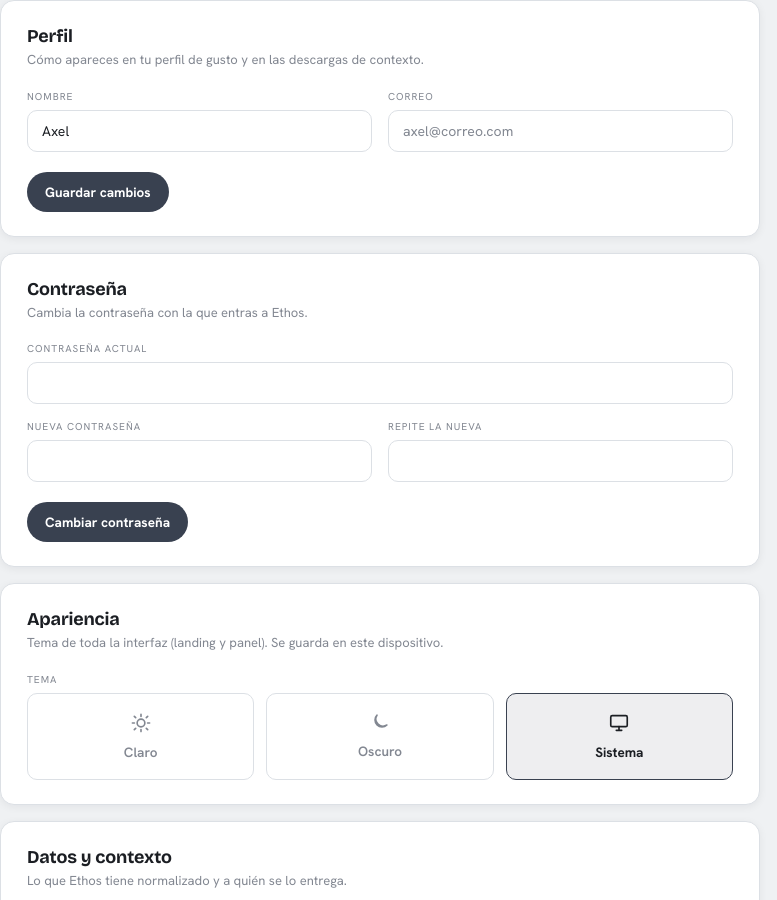
Test: Settings › avisa si la contraseña actual es incorrecta
Type "mala" into the password field named "Contraseña actual" at (380, 383), box [27,362,733,404]
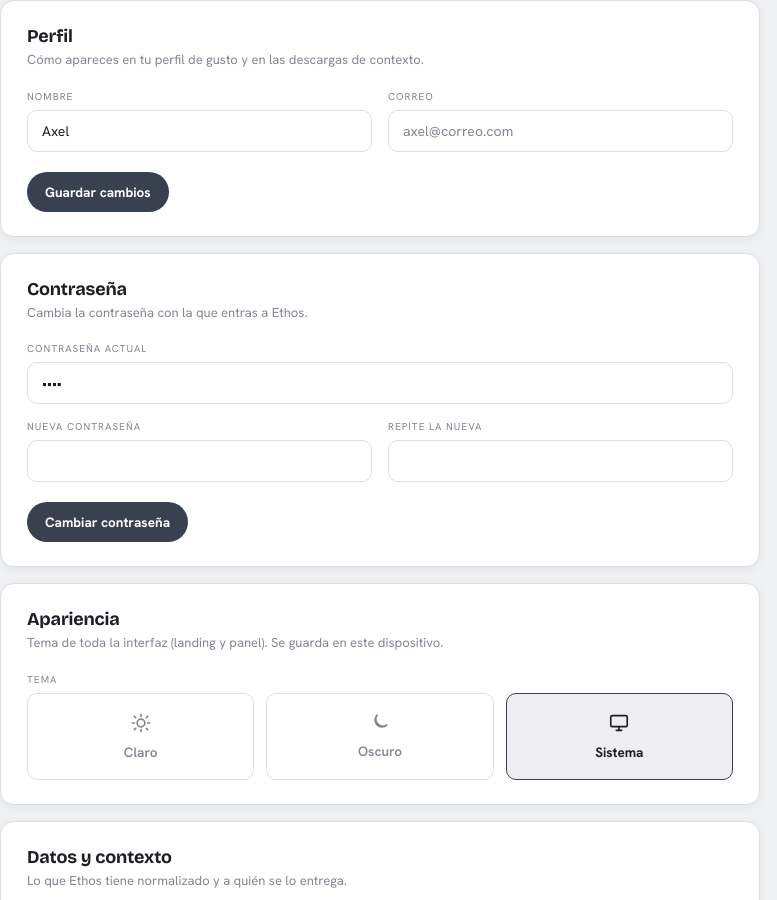
Type "clave-nueva-123" into the password field named "Nueva contraseña" at (200, 461), box [27,440,372,482]
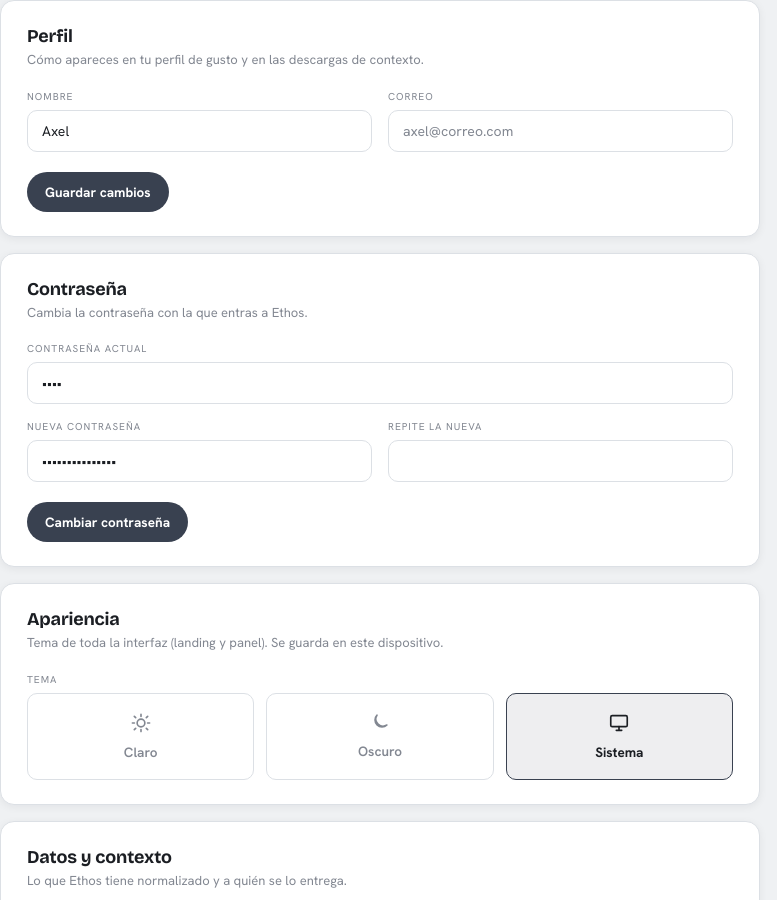
Type "clave-nueva-123" into the password field named "Repite la nueva contraseña" at (560, 461), box [388,440,733,482]
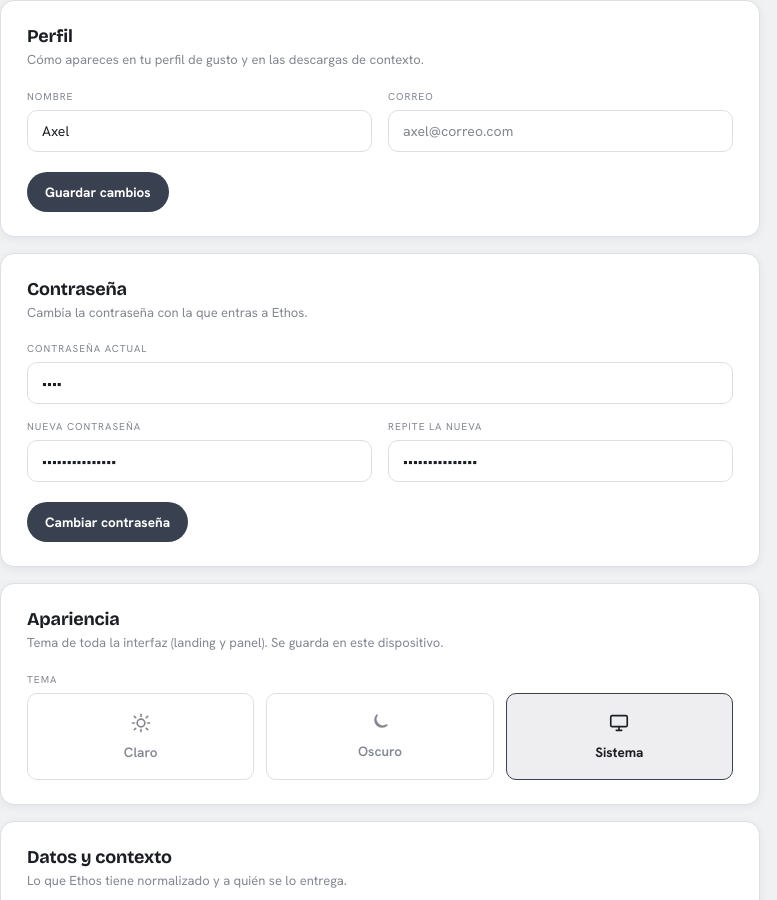
Click the button "Cambiar contraseña" at (108, 522), box [27,502,188,542]
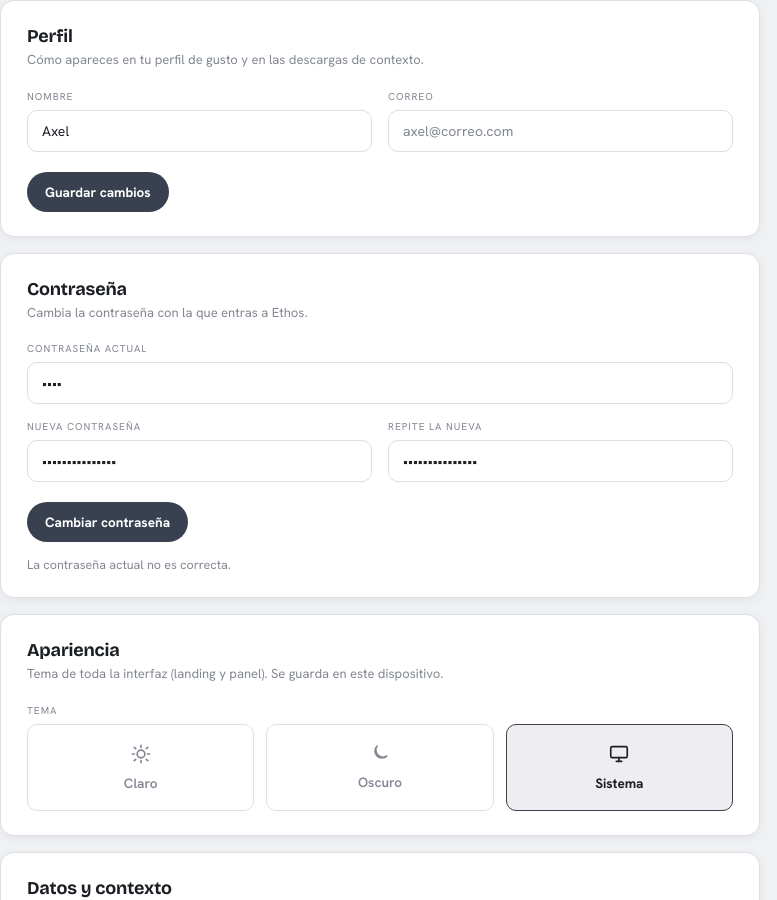
Result: the text "La contraseña actual no es correcta." is shown at [27,556,231,573]
